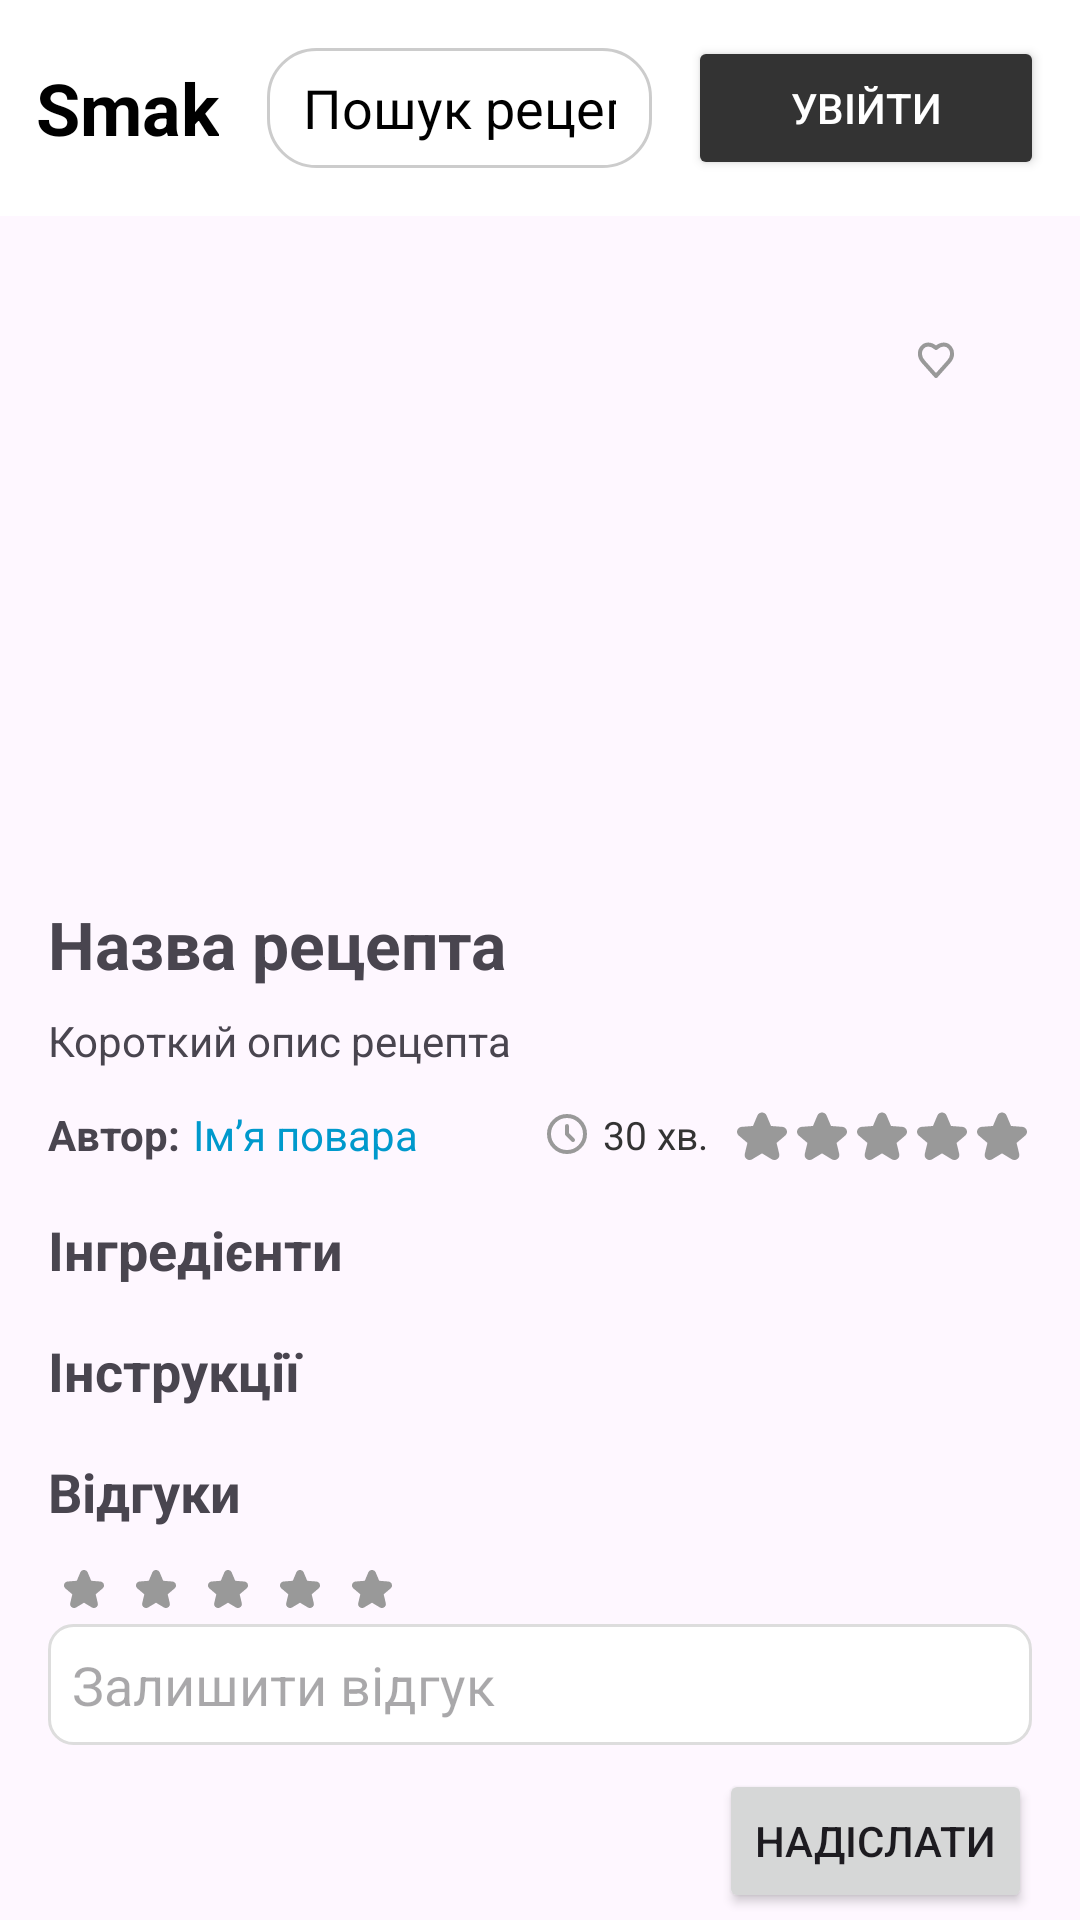

Screen size 1080×1920. Icon name, then its center in pixels as (x,y):
clock: (567,1134)
Позначити як улюблений: (936,360)
